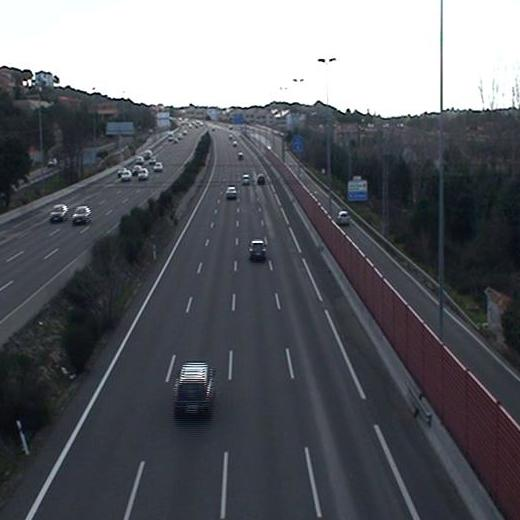car: (173, 362, 213, 418), (248, 239, 266, 261), (224, 186, 237, 200), (239, 174, 252, 186), (256, 175, 266, 188)
